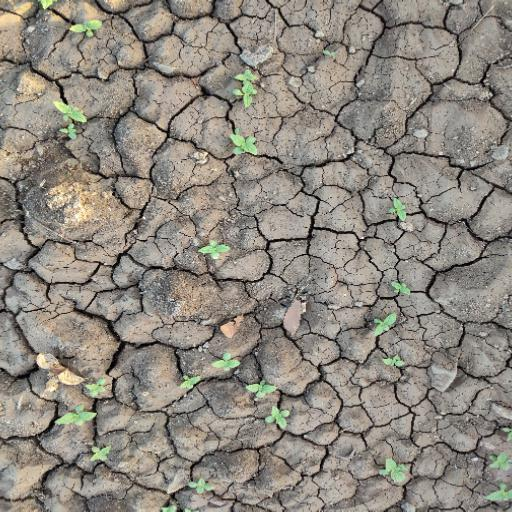crop: (50, 366, 121, 479), (210, 344, 293, 438), (372, 276, 417, 380), (227, 64, 267, 159), (47, 78, 89, 154), (188, 230, 232, 267), (381, 187, 415, 230)
